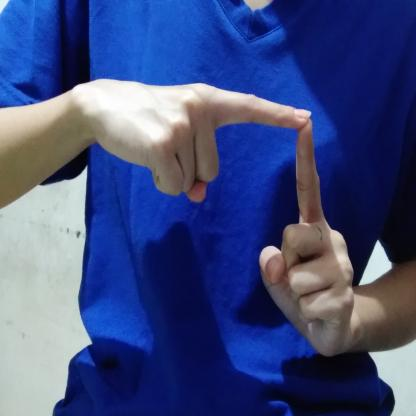when: (74, 71, 386, 359)
